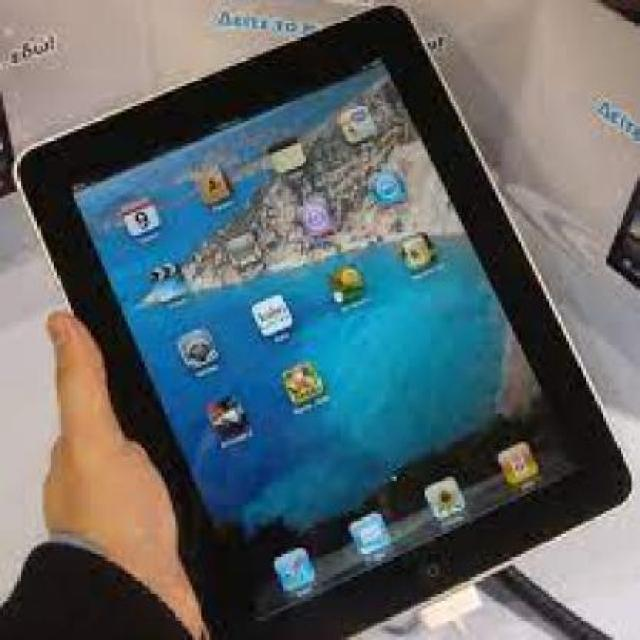tablet: (9, 22, 586, 640)
